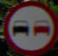No overtake: (7, 5, 52, 46)
